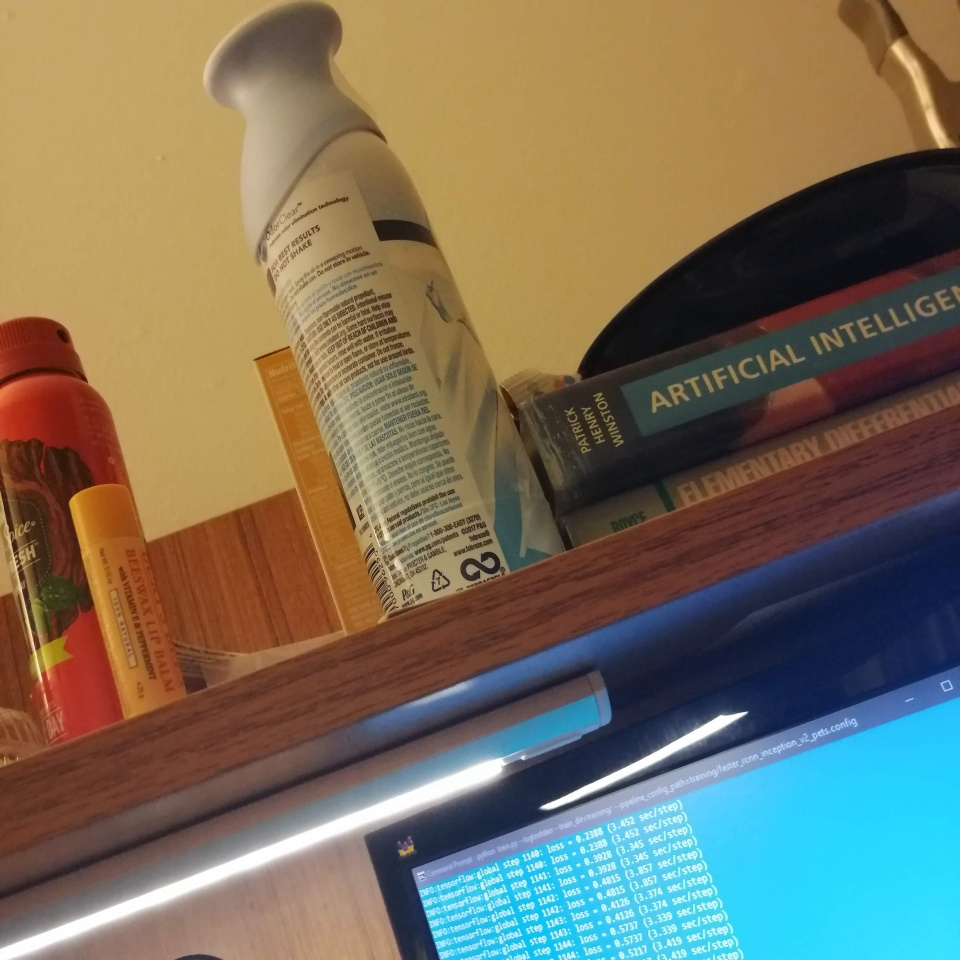chapstick: (65, 481, 188, 722)
